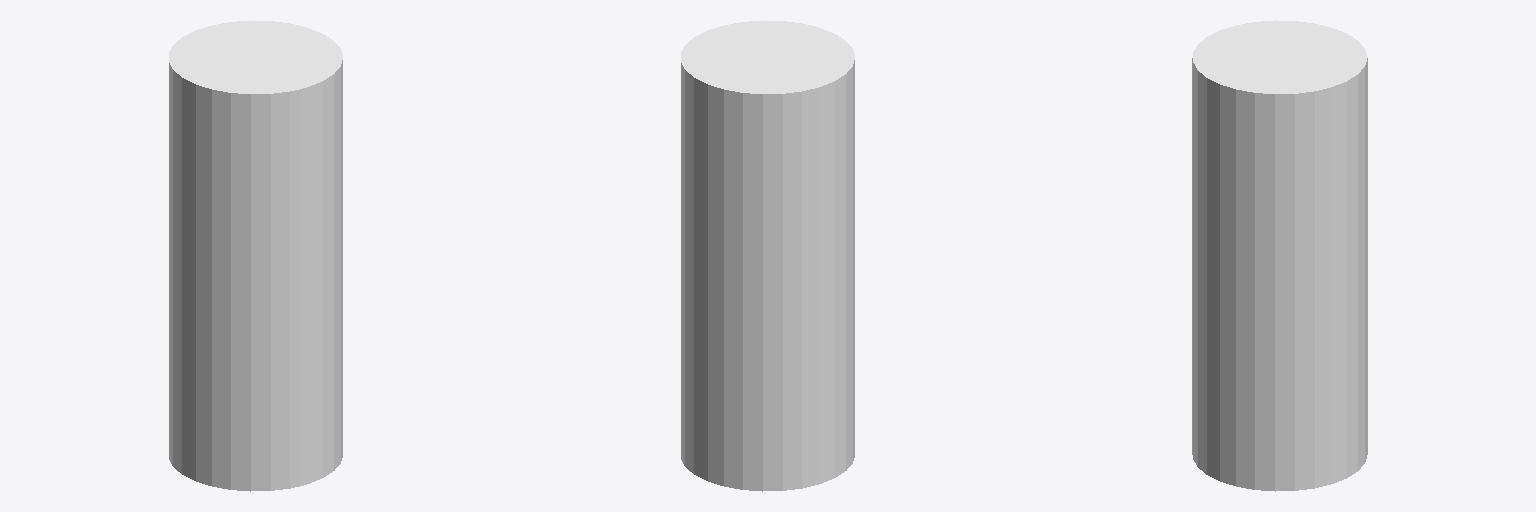
The robot description file, URDF, robot "xiaoyuanzhu_white.SLDPRT":
<?xml version="1.0" encoding="utf-8"?>
<!-- This URDF was automatically created by SolidWorks to URDF Exporter! Originally created by [author] ([email redacted]) 
     Commit Version: 1.5.1-0-g916b5db  Build Version: 1.5.7152.31018
     For more information, please see http://wiki.ros.org/sw_urdf_exporter -->
<robot
  name="xiaoyuanzhu_white.SLDPRT">
  <link
    name="xiaoyuanzhu_white">
    <inertial>
      <origin
        xyz="0 2.06268794227797E-18 0.025"
        rpy="0 0 0" />
      <mass
        value="0.0047124" />
      <inertia
        ixx="1.0996E-06"
        ixy="1.39396941255601E-55"
        ixz="-2.2766E-39"
        iyy="1.0996E-06"
        iyz="-5.29017698787729E-23"
        izz="2.3562E-07" />
    </inertial>
    <visual>
      <origin
        xyz="0 0 0"
        rpy="1.5707963267949 0 0" />
      <geometry>
        <mesh
          filename="package://xiaoyuanzhu_white/meshes/xiaoyuanzhu_white.STL" />
      </geometry>
      <material
        name="">
        <color
          rgba="1 1 1 1" />
        <texture
          filename="package://xiaoyuanzhu_white/textures/" />
      </material>
    </visual>
    <collision>
      <origin
        xyz="0 0 0"
        rpy="1.5707963267949 0 0" />
      <geometry>
        <mesh
          filename="package://xiaoyuanzhu_white/meshes/xiaoyuanzhu_white.STL" />
      </geometry>
    </collision>
  </link>
</robot>

--- Facts derived from the render (not from the file) ---
The picture shows the robot from 3 angles, left to right: view 1: azimuth 30°, elevation 25°; view 2: azimuth 150°, elevation 25°; view 3: azimuth 270°, elevation 25°; orthographic projection.
Model xiaoyuanzhu_white.SLDPRT with 1 links and 0 joints (none), rooted at xiaoyuanzhu_white, posed all joints at 0.
Links seen in each view (by area): view 1: xiaoyuanzhu_white; view 2: xiaoyuanzhu_white; view 3: xiaoyuanzhu_white.
Link boxes in pixels (x1,y1,x2,y2): xiaoyuanzhu_white: (169, 20, 342, 491); xiaoyuanzhu_white: (681, 20, 854, 491); xiaoyuanzhu_white: (1192, 20, 1367, 491).
Bounding box of the posed robot: 0.02 × 0.02 × 0.05 m (x, y, z).
Meshes: 1 distinct files referenced, 1 mesh visuals loaded (1 binary STL).
